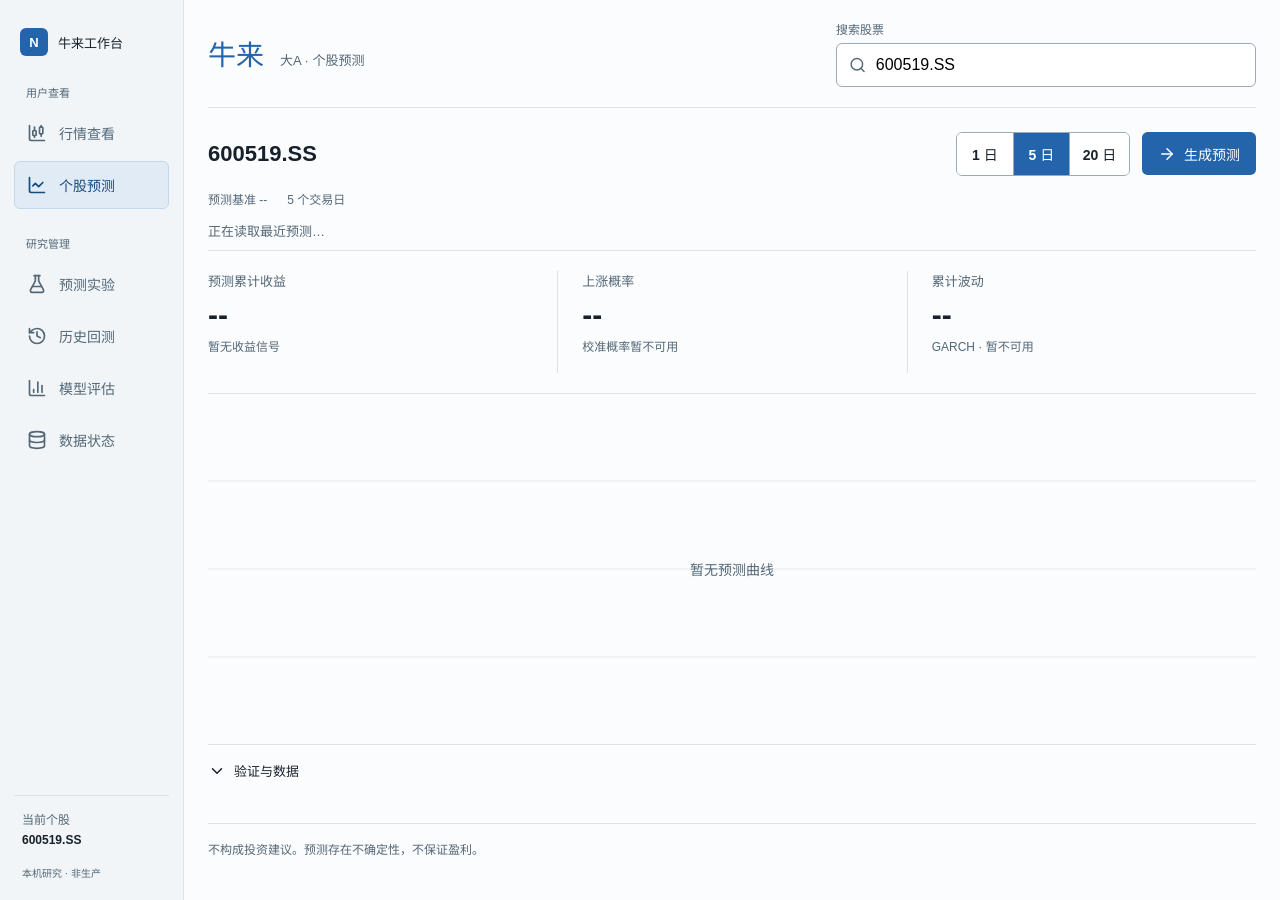
single-stock prediction workspace at the HTTP boundary › keeps input separate from committed ticker and ignores a late result after a keyboard stock switch
Replace the text in the dropdown labelled "搜索股票" with "测试股票乙" at (1061, 65), box left=866, top=44, right=1255, bottom=86
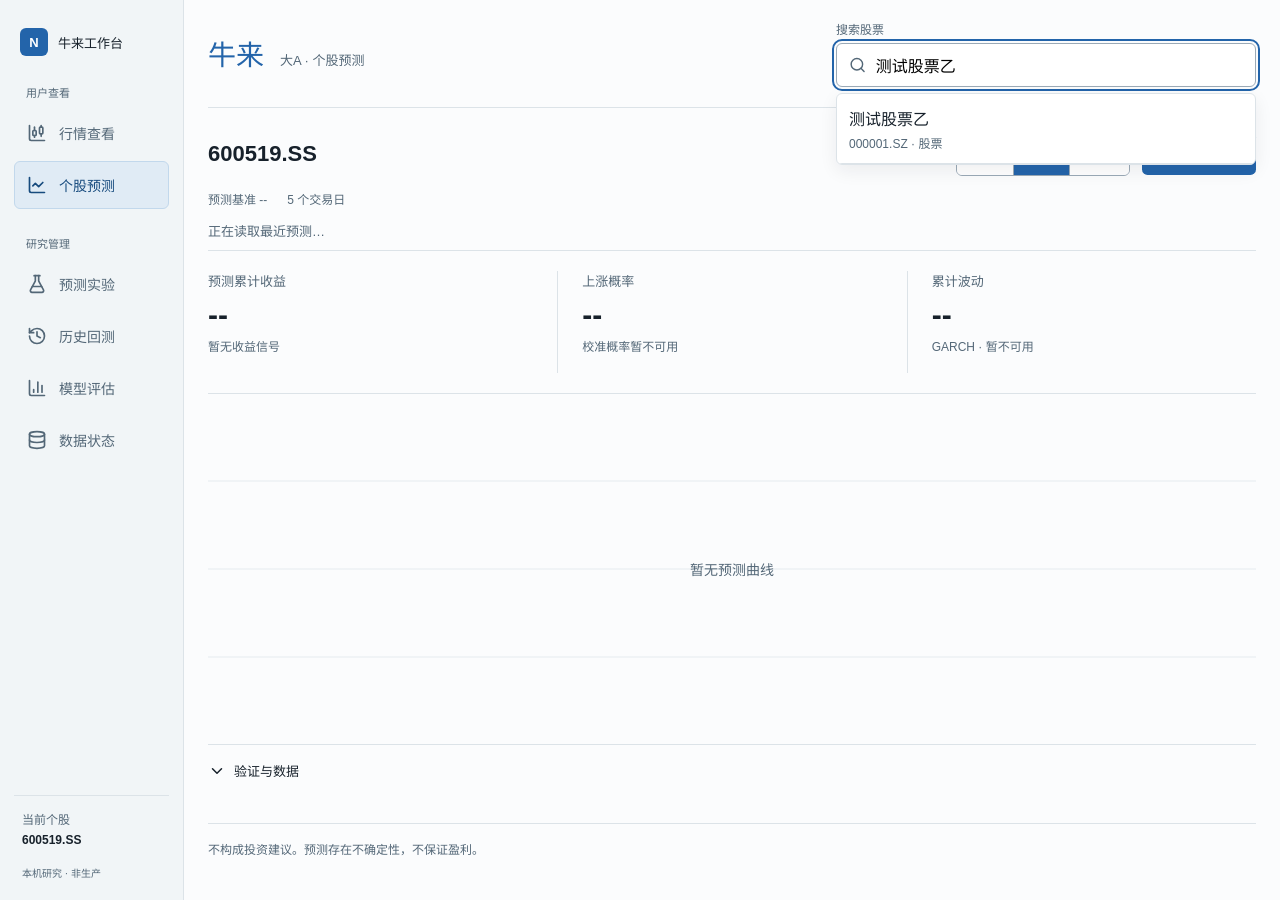
Check: the option "测试股票乙 000001.SZ · 股票" is shown, box left=837, top=94, right=1255, bottom=164
Press Arrowdown Enter
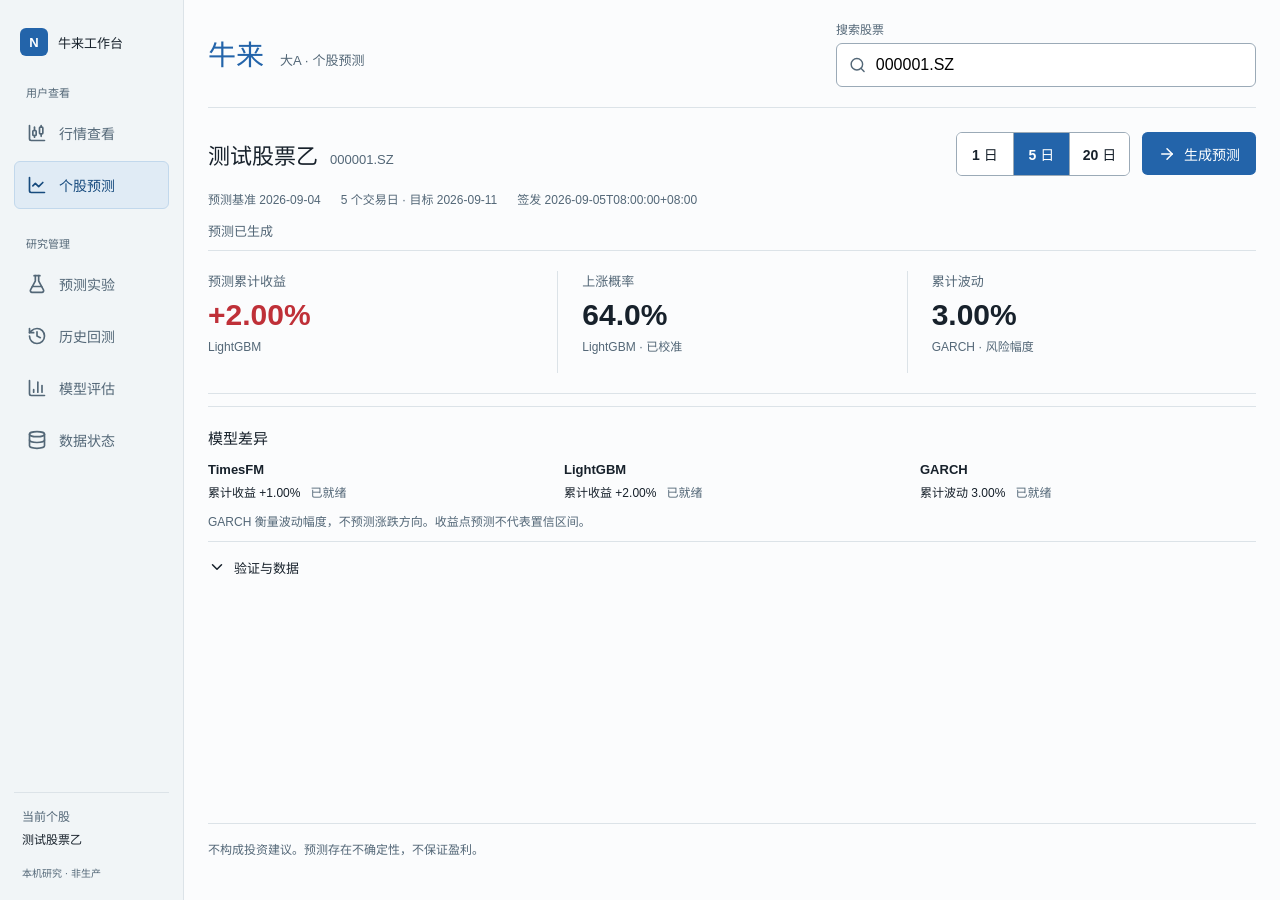
Check: the heading "测试股票乙" is shown, box left=208, top=138, right=318, bottom=170
